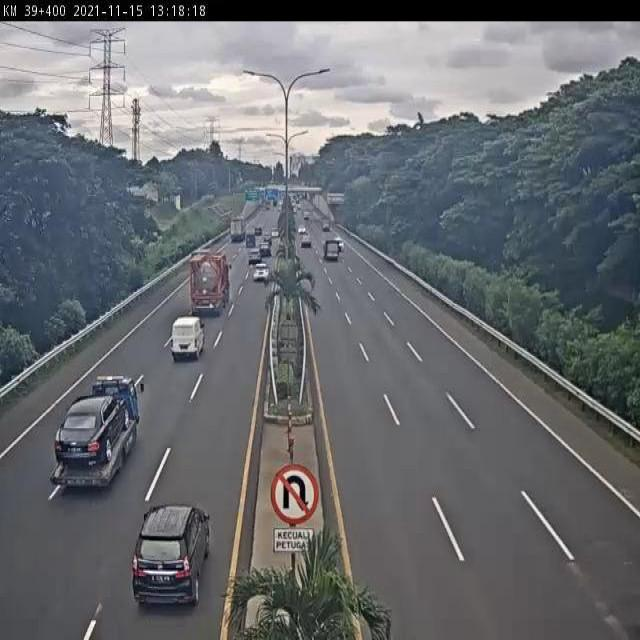bus-s-: (171, 316, 207, 359)
car: (131, 498, 215, 606), (252, 261, 270, 283)
truck-m-: (52, 372, 140, 492)
truck-xl-: (189, 252, 230, 319)
